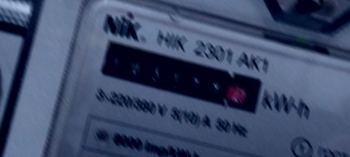0: (105, 52, 121, 73), (128, 56, 141, 77)
1: (169, 64, 181, 84)
3: (148, 63, 159, 83)
6: (228, 90, 240, 107)
9: (207, 77, 220, 97), (188, 70, 200, 90)
screen: (90, 35, 270, 121)
